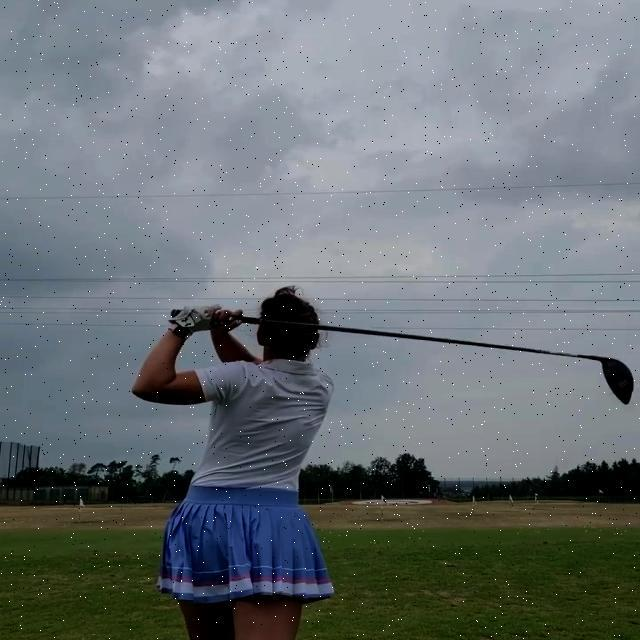ClubHandle: (171, 309, 634, 404)
ClubHead: (602, 357, 634, 404)
